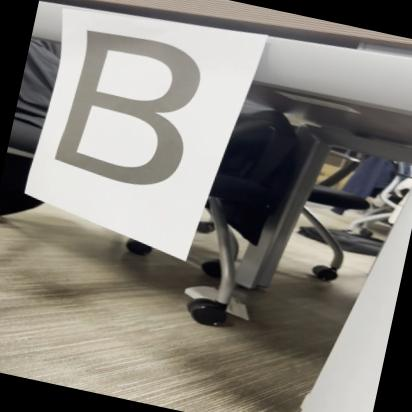seat: (43, 20, 238, 223)
